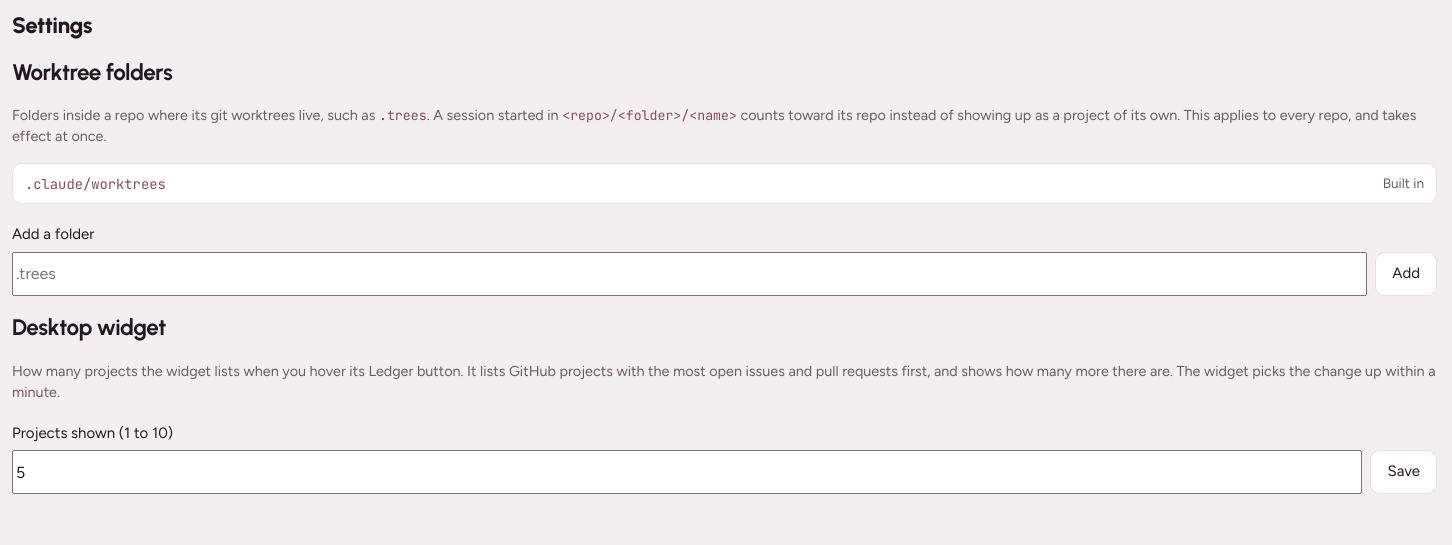
Test: SettingsPage › shows the server's reason for a rejected number and keeps what was typed
This screenshot has width=1452, height=545.
Replace the text in the number field labelled "Projects shown (1 to 10)" with "11" at (687, 472), box x1=12 y1=450 x2=1362 y2=494
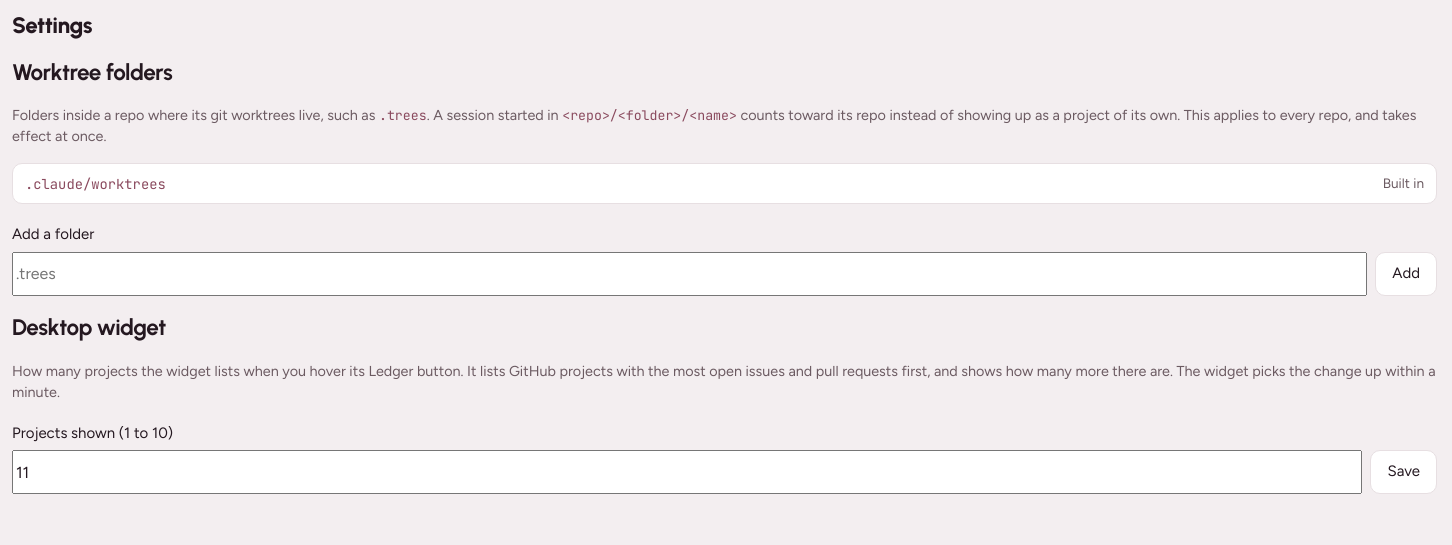
Click the button "Save" at (1404, 472), box x1=1370 y1=450 x2=1437 y2=494
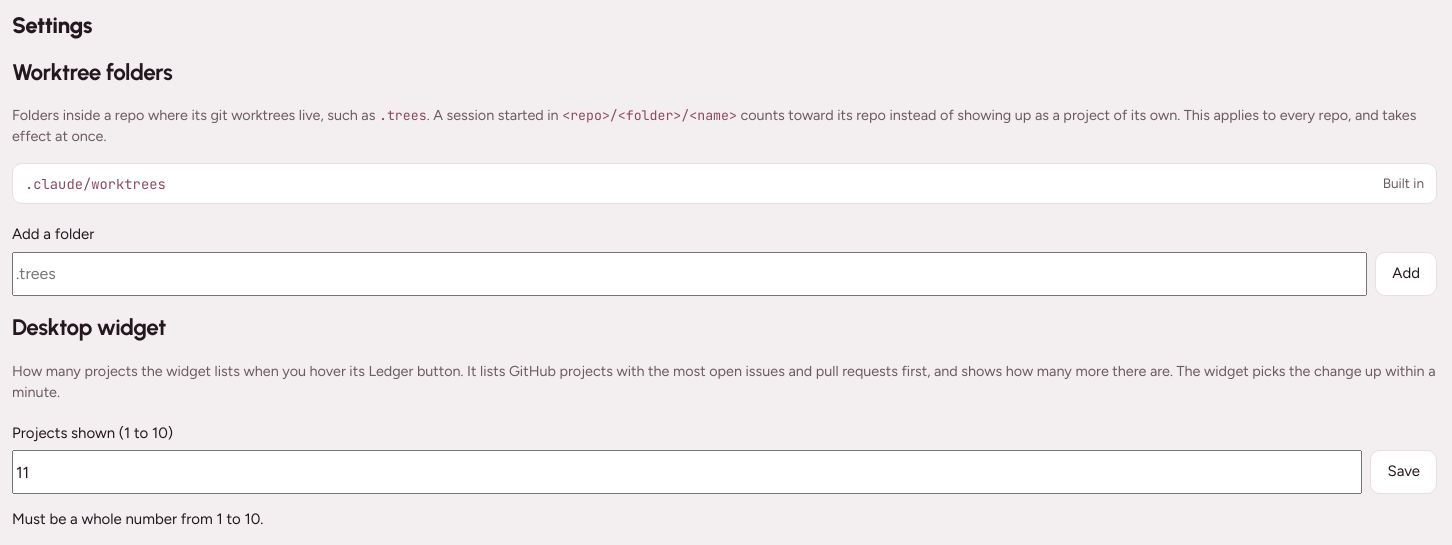
Now the message shows "whole number from 1 to 10", box x1=12 y1=510 x2=263 y2=528
